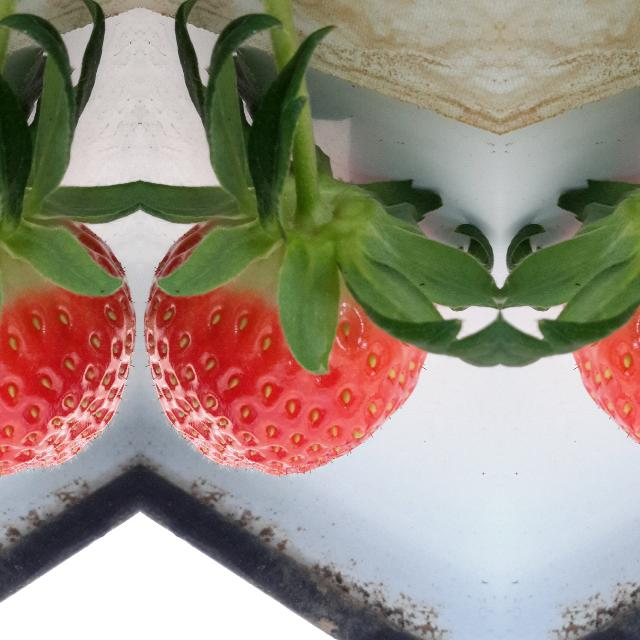Health_100: (144, 218, 426, 476), (0, 218, 136, 476), (573, 218, 640, 476)
